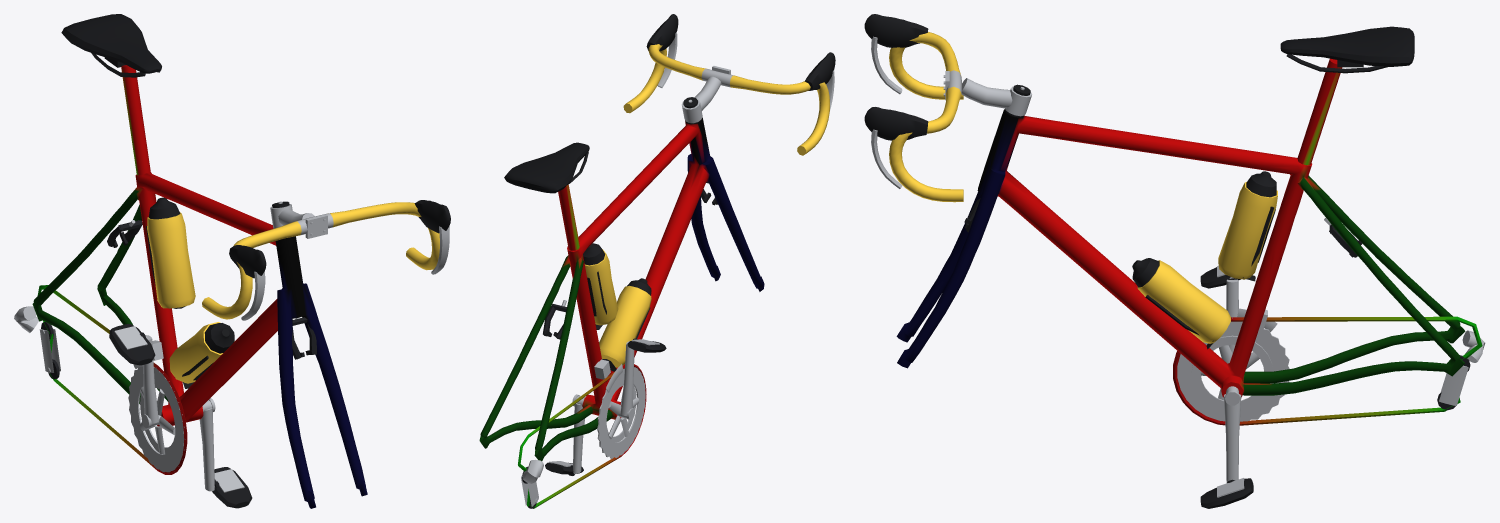
The model's file is retro_compact.glb.
3 renders of one model, left to right at view 1: azimuth 30°, elevation 25°; view 2: azimuth 150°, elevation 25°; view 3: azimuth 270°, elevation 25°, orthographic. The views are drawn at different scales.
Parts seen in each view (by area): view 1: frame, cockpit, opt_bottles, crankset, saddle, opt_derailleur, pedal_R, pedal_L, opt_brakes_rim; view 2: frame, cockpit, opt_bottles, crankset, saddle, opt_derailleur, opt_brakes_rim, pedal_R; view 3: frame, cockpit, opt_bottles, crankset, saddle, opt_derailleur, pedal_L.
Part boxes in pixels (x1=…): frame: x1=32, y1=65, x2=367, y2=508; cockpit: x1=202, y1=200, x2=450, y2=320; opt_bottles: x1=146, y1=197, x2=234, y2=388; crankset: x1=128, y1=335, x2=215, y2=491; saddle: x1=61, y1=14, x2=161, y2=77; opt_derailleur: x1=14, y1=306, x2=163, y2=379; pedal_R: x1=109, y1=324, x2=155, y2=365; pedal_L: x1=212, y1=467, x2=252, y2=508; opt_brakes_rim: x1=107, y1=220, x2=316, y2=359; frame: x1=479, y1=117, x2=764, y2=508; cockpit: x1=623, y1=14, x2=835, y2=155; opt_bottles: x1=583, y1=243, x2=651, y2=371; crankset: x1=572, y1=341, x2=646, y2=473; saddle: x1=504, y1=142, x2=589, y2=193; opt_derailleur: x1=521, y1=359, x2=622, y2=508; opt_brakes_rim: x1=543, y1=181, x2=718, y2=339; pedal_R: x1=627, y1=338, x2=666, y2=352; frame: x1=896, y1=58, x2=1482, y2=425; cockpit: x1=864, y1=14, x2=1032, y2=202; opt_bottles: x1=1132, y1=171, x2=1277, y2=349; crankset: x1=1177, y1=279, x2=1289, y2=482; saddle: x1=1280, y1=26, x2=1414, y2=73; opt_derailleur: x1=1237, y1=308, x2=1485, y2=410; pedal_L: x1=1200, y1=478, x2=1253, y2=508.
Size of the model in its own units: 0.4648 by 0.8869 by 1.13.
